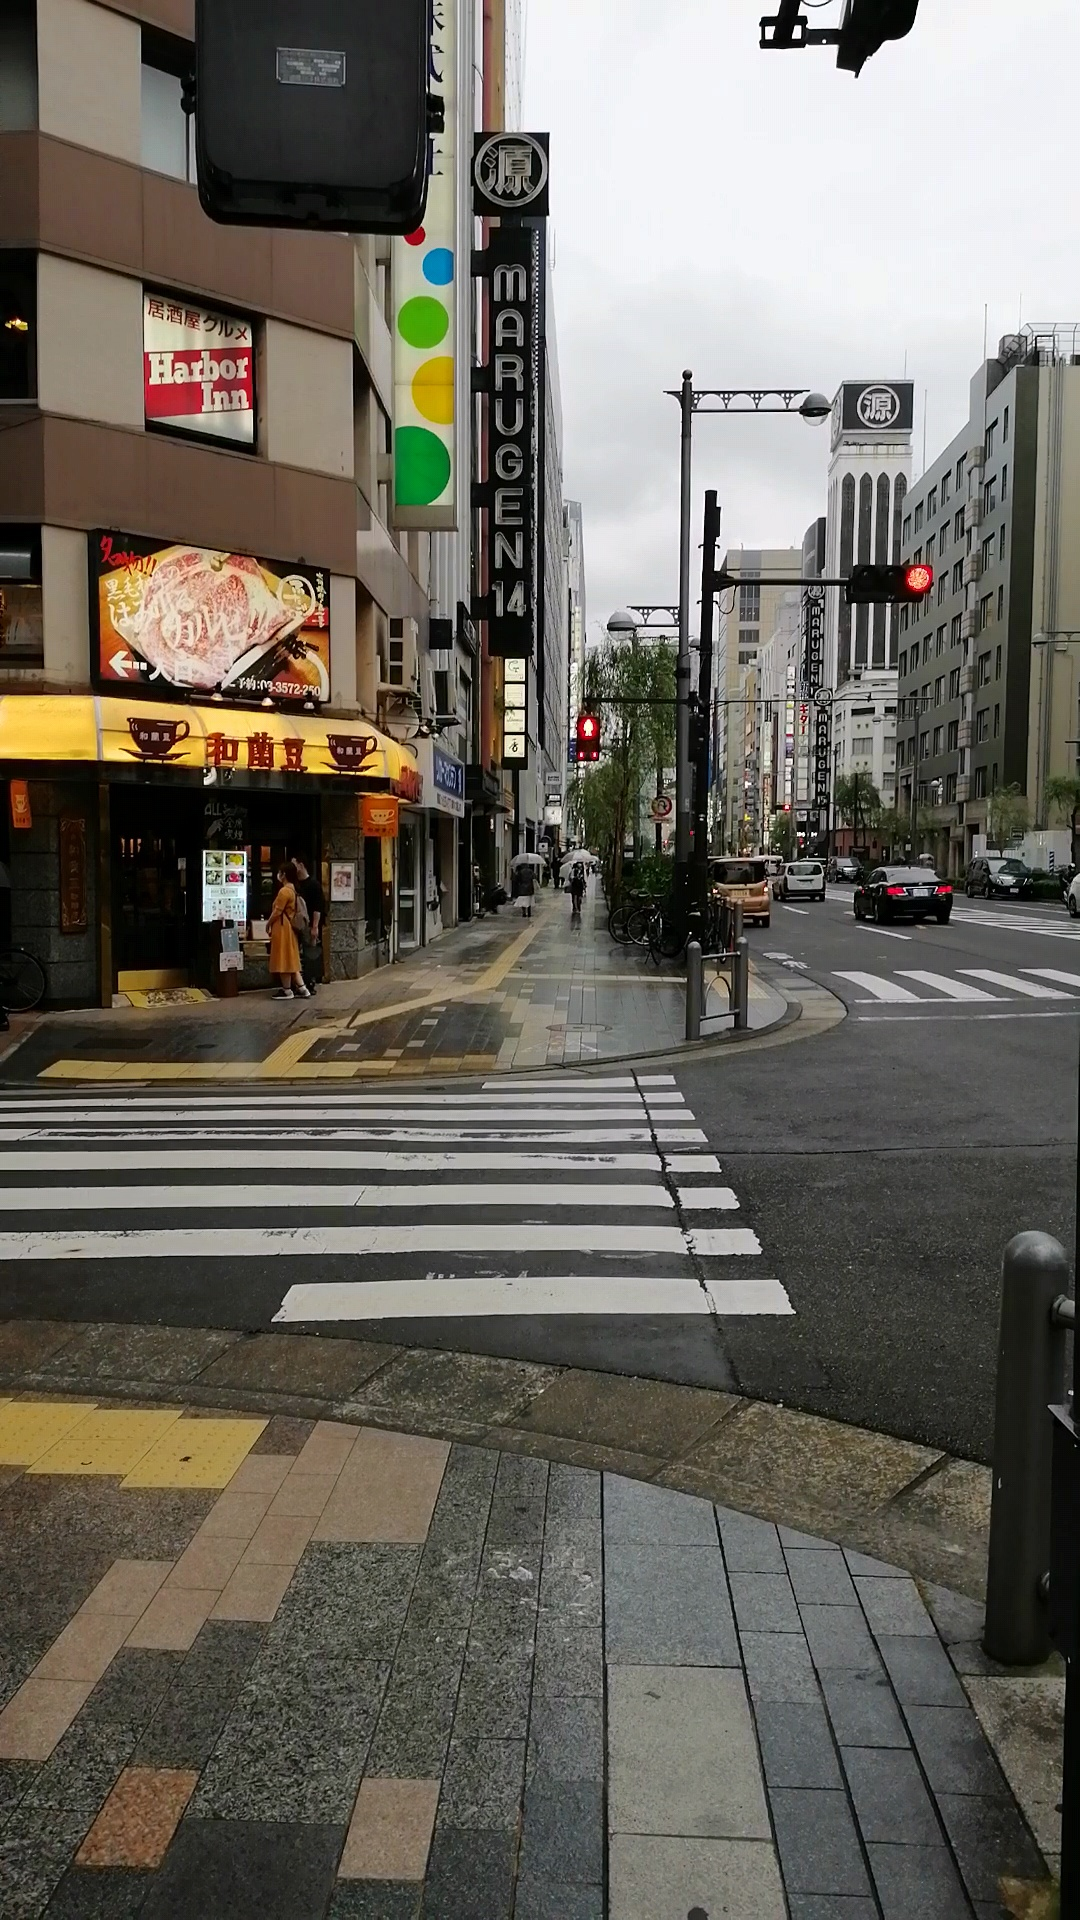red: (574, 712, 600, 764)
